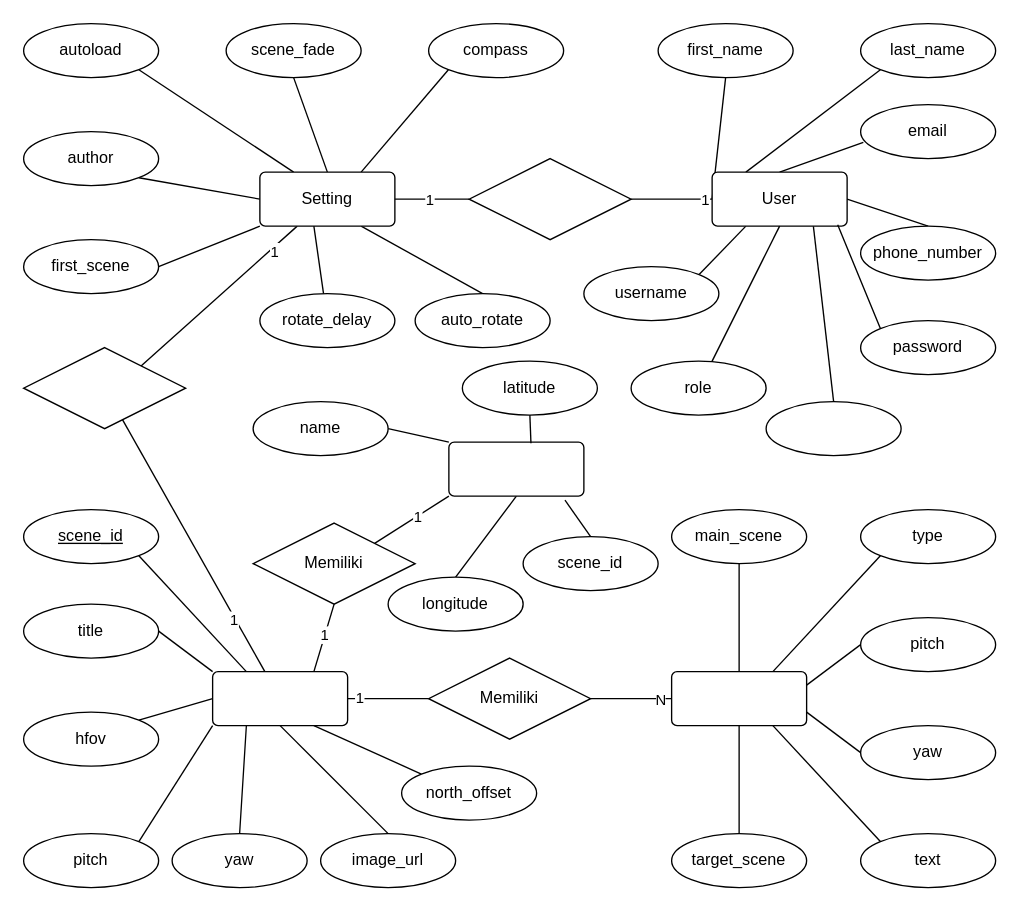
Image size: 1019x911. Some labels were removed from this diagram. Each missing label, with the centre of its shape:
"Hotspots" goes at point 738,698.
"Maps" goes at point 516,468.
"Mengatur" goes at point 549,198.
"Mengendalikan" goes at point 104,387.
"profile" goes at point 833,428.
"Scenes" goes at point 279,698.
